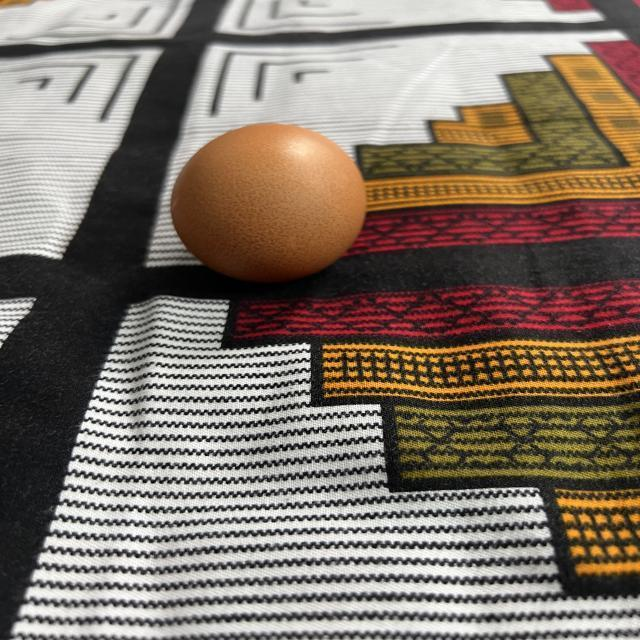egg: (172, 120, 372, 284)
